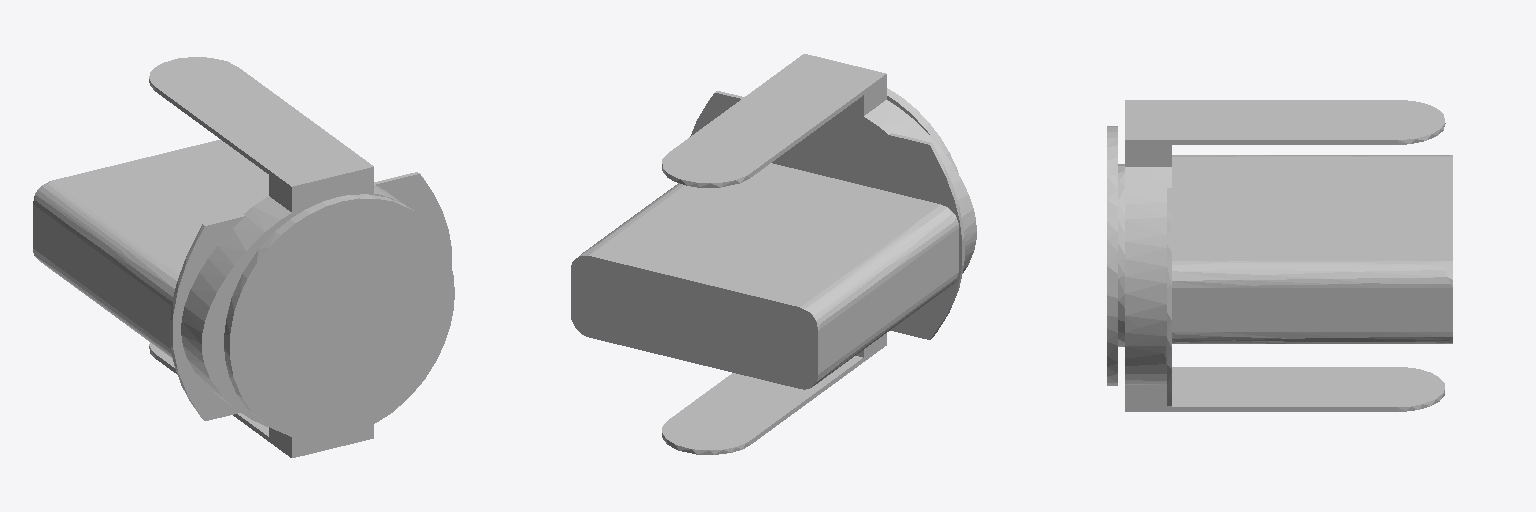
File: bl_caster_rotation_link.OBJ
3 renders of one model, left to right at view 1: azimuth 30°, elevation 25°; view 2: azimuth 150°, elevation 25°; view 3: azimuth 270°, elevation 25°, orthographic.
Visible parts, largest first — view 1: /ambf/env/pr2/bl_caster_rotation_link_/ambf/env/pr2/bl_caster_ro; view 2: /ambf/env/pr2/bl_caster_rotation_link_/ambf/env/pr2/bl_caster_ro; view 3: /ambf/env/pr2/bl_caster_rotation_link_/ambf/env/pr2/bl_caster_ro.
Boxes of the visible parts, x1=… form: /ambf/env/pr2/bl_caster_rotation_link_/ambf/env/pr2/bl_caster_ro: x1=33, y1=57, x2=454, y2=457; /ambf/env/pr2/bl_caster_rotation_link_/ambf/env/pr2/bl_caster_ro: x1=571, y1=54, x2=976, y2=454; /ambf/env/pr2/bl_caster_rotation_link_/ambf/env/pr2/bl_caster_ro: x1=1107, y1=100, x2=1452, y2=411.
Size of the model in its own units: 0.1868 by 0.173 by 0.1995.